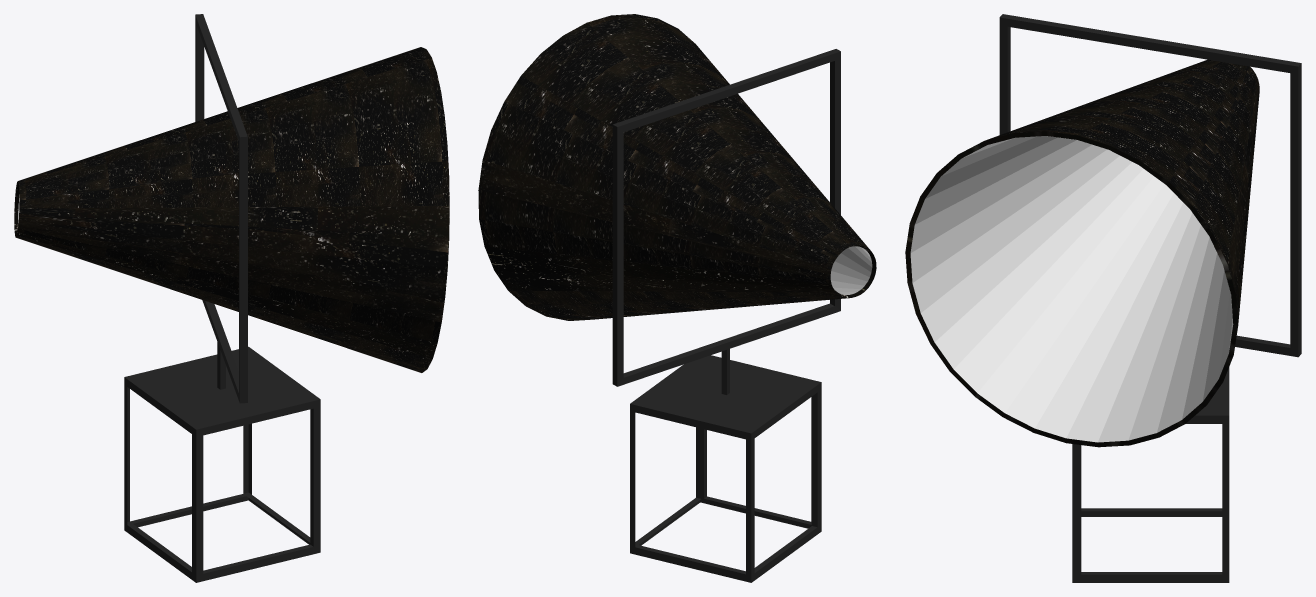
The model's file is fluesterkonus.glb.
3 renders of one model, left to right at view 1: azimuth 30°, elevation 25°; view 2: azimuth 150°, elevation 25°; view 3: azimuth 270°, elevation 25°, orthographic. The views are drawn at different scales.
Visible parts, largest first — view 1: horn.001, Cube, frame; view 2: horn.001, Cube, frame; view 3: horn.001, frame, Cube.
Part boxes in pixels (<box>): horn.001: <box>14,47,449,372</box>; Cube: <box>124,346,320,582</box>; frame: <box>195,14,247,403</box>; horn.001: <box>478,14,876,320</box>; Cube: <box>630,355,821,582</box>; frame: <box>612,49,840,386</box>; horn.001: <box>905,59,1259,447</box>; frame: <box>999,14,1301,357</box>; Cube: <box>1072,367,1229,582</box>.
Bounding box in the file's own units: 2.13 × 2.41 × 1.7.
Materials: 3 (1 with a texture image).
